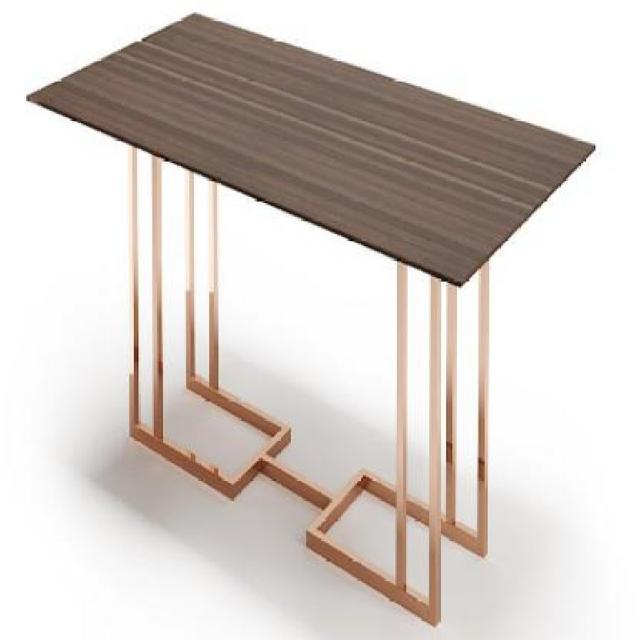table: (24, 11, 584, 612)
